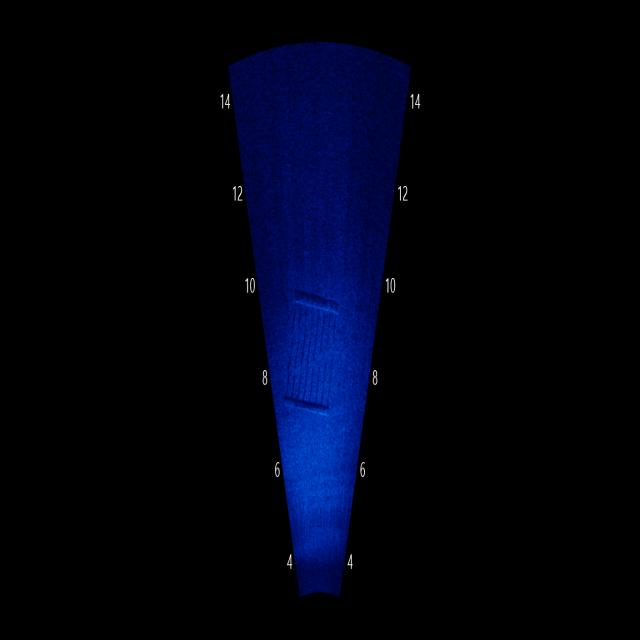square: (280, 274, 347, 431)
